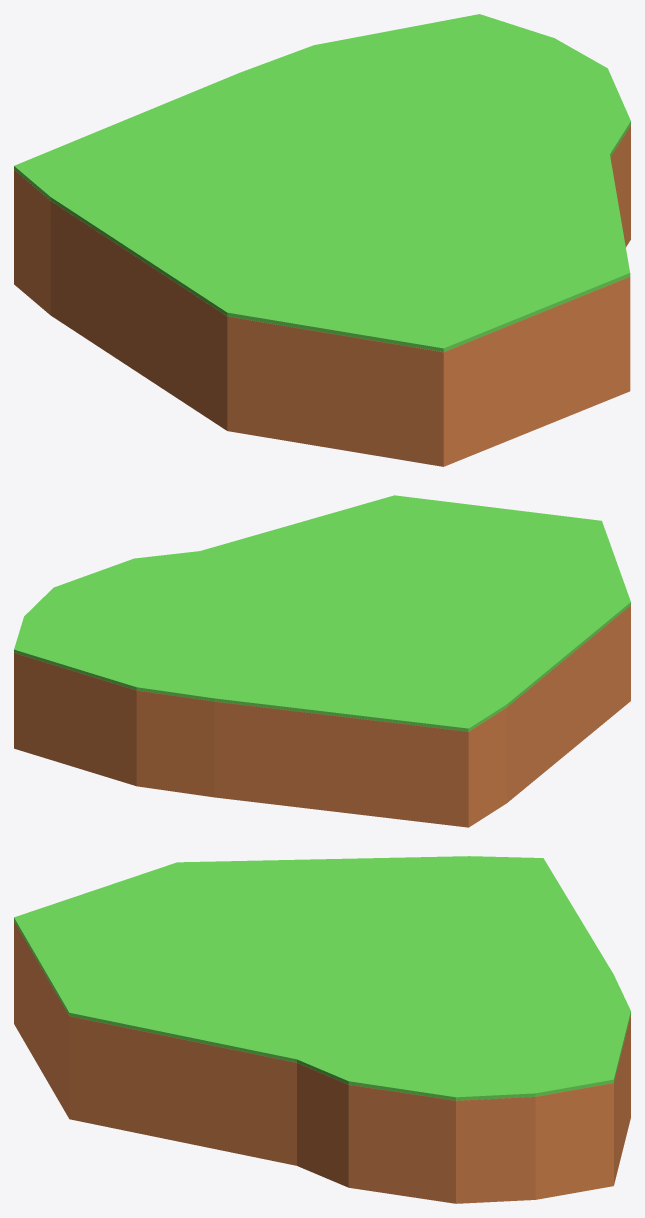
File: Terrain.glb
3 renders of one model, top to bottom at view 1: azimuth 30°, elevation 25°; view 2: azimuth 150°, elevation 25°; view 3: azimuth 270°, elevation 25°, orthographic. The views are drawn at different scales.
Parts seen in each view (by area): view 1: Terrain.001, Terrain.002; view 2: Terrain.001, Terrain.002; view 3: Terrain.001, Terrain.002.
Part boxes in pixels (box(x1,y1,x2,y2)): Terrain.001: box(14, 14, 630, 352); Terrain.002: box(14, 125, 630, 466); Terrain.001: box(14, 495, 630, 731); Terrain.002: box(14, 605, 630, 827); Terrain.001: box(14, 856, 630, 1100); Terrain.002: box(14, 921, 630, 1203).
Bounding box in the file's own units: 15.05 × 3.1 × 16.27.
